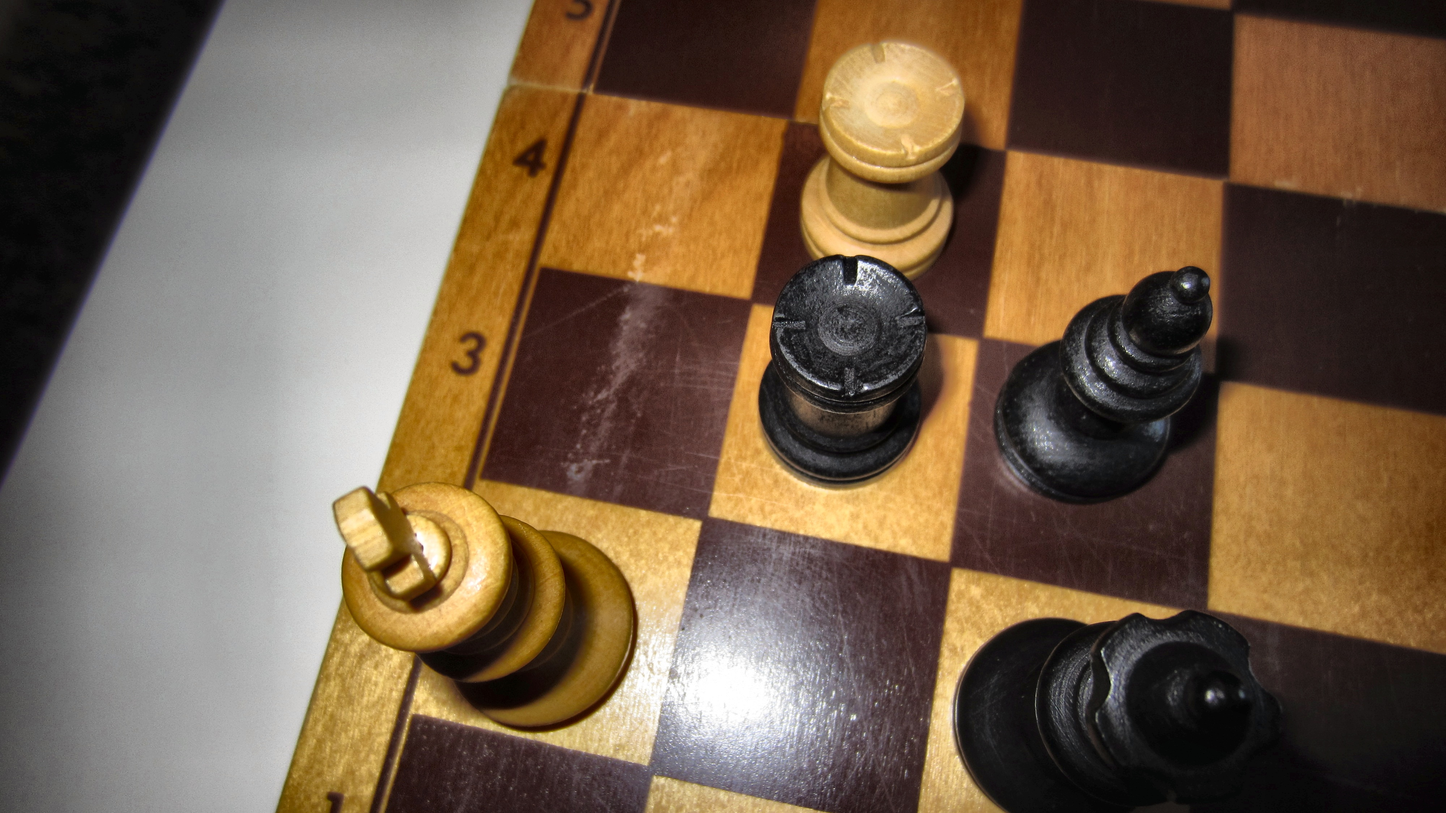black-bishop: (993, 264, 1215, 506)
black-queen: (949, 608, 1287, 813)
black-rook: (756, 253, 925, 488)
white-king: (331, 477, 638, 733)
white-rook: (797, 38, 966, 282)
